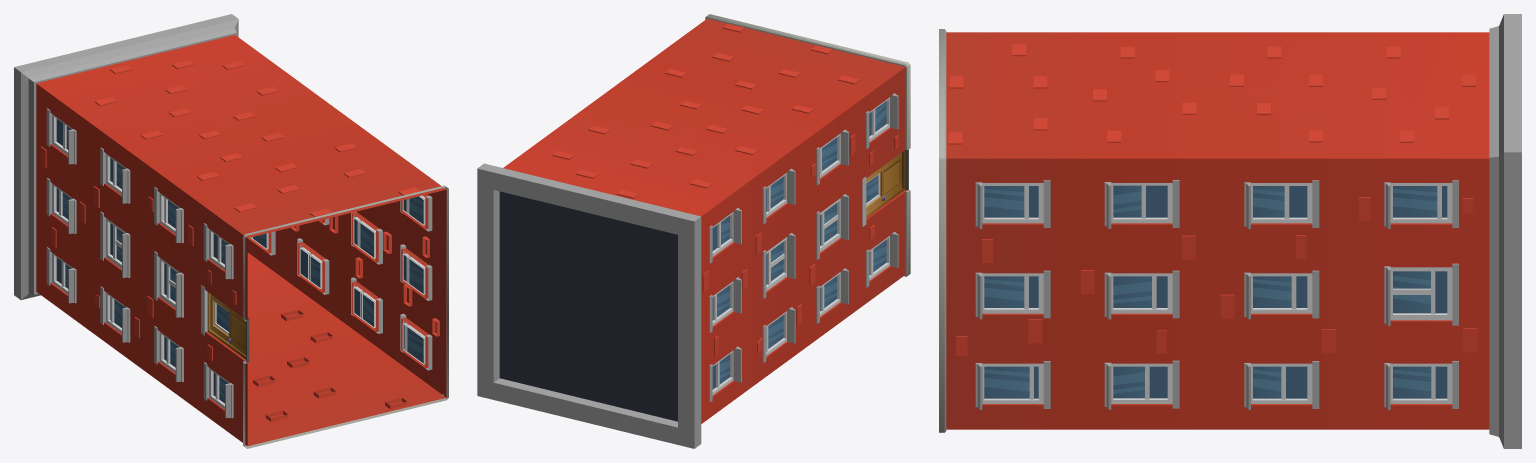
Rendered from Building_2_5_A.fbx.
The picture shows the model from 3 angles, left to right: view 1: azimuth 30°, elevation 25°; view 2: azimuth 150°, elevation 25°; view 3: azimuth 270°, elevation 25°; orthographic projection. The views are drawn at different scales.
Parts seen in each view (by area): view 1: Building_2_5_A; view 2: Building_2_5_A; view 3: Building_2_5_A.
Part boxes in pixels (x1=…): Building_2_5_A: x1=14, y1=14, x2=448, y2=448; Building_2_5_A: x1=477, y1=14, x2=910, y2=448; Building_2_5_A: x1=939, y1=14, x2=1521, y2=448.
Bounding box in the file's own units: 620 × 620 × 1105.
